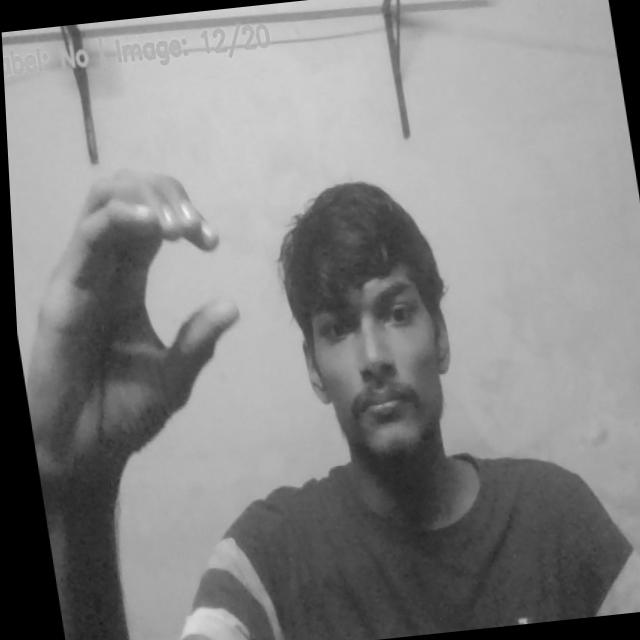No: (6, 159, 256, 489)
